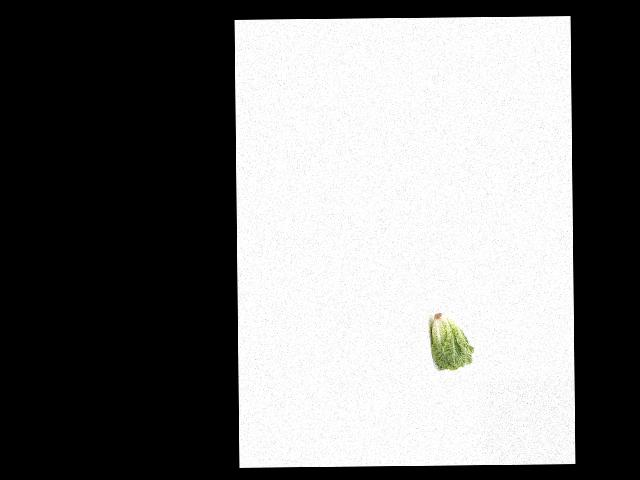lettuce: (429, 309, 474, 370)
